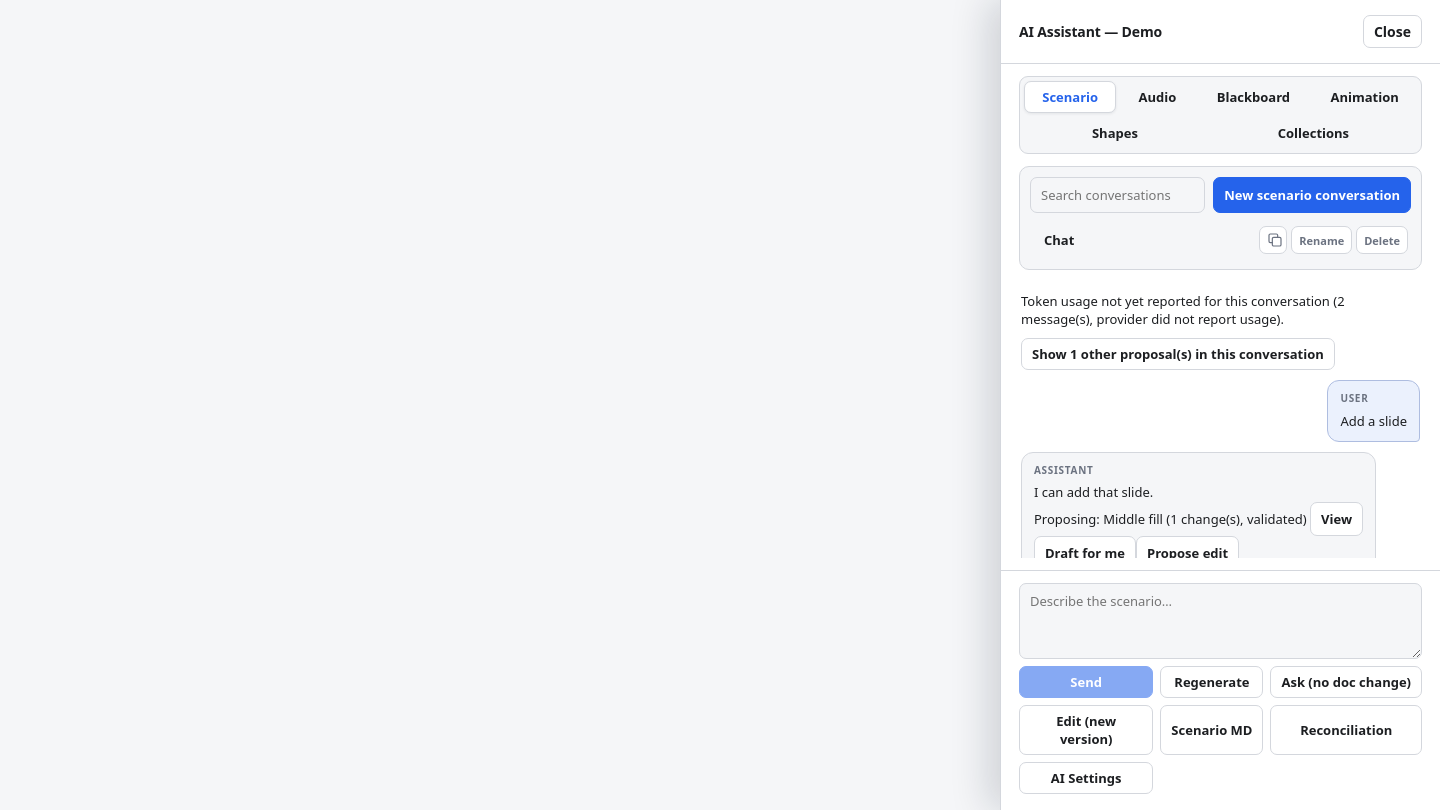
Test case: AiPanel inline proposals › lists unattached proposals collapsed and reviews them in the modal
Click the button with test id "ai-proposals-others-toggle" at (1178, 354), box x1=1021 y1=338 x2=1335 y2=370
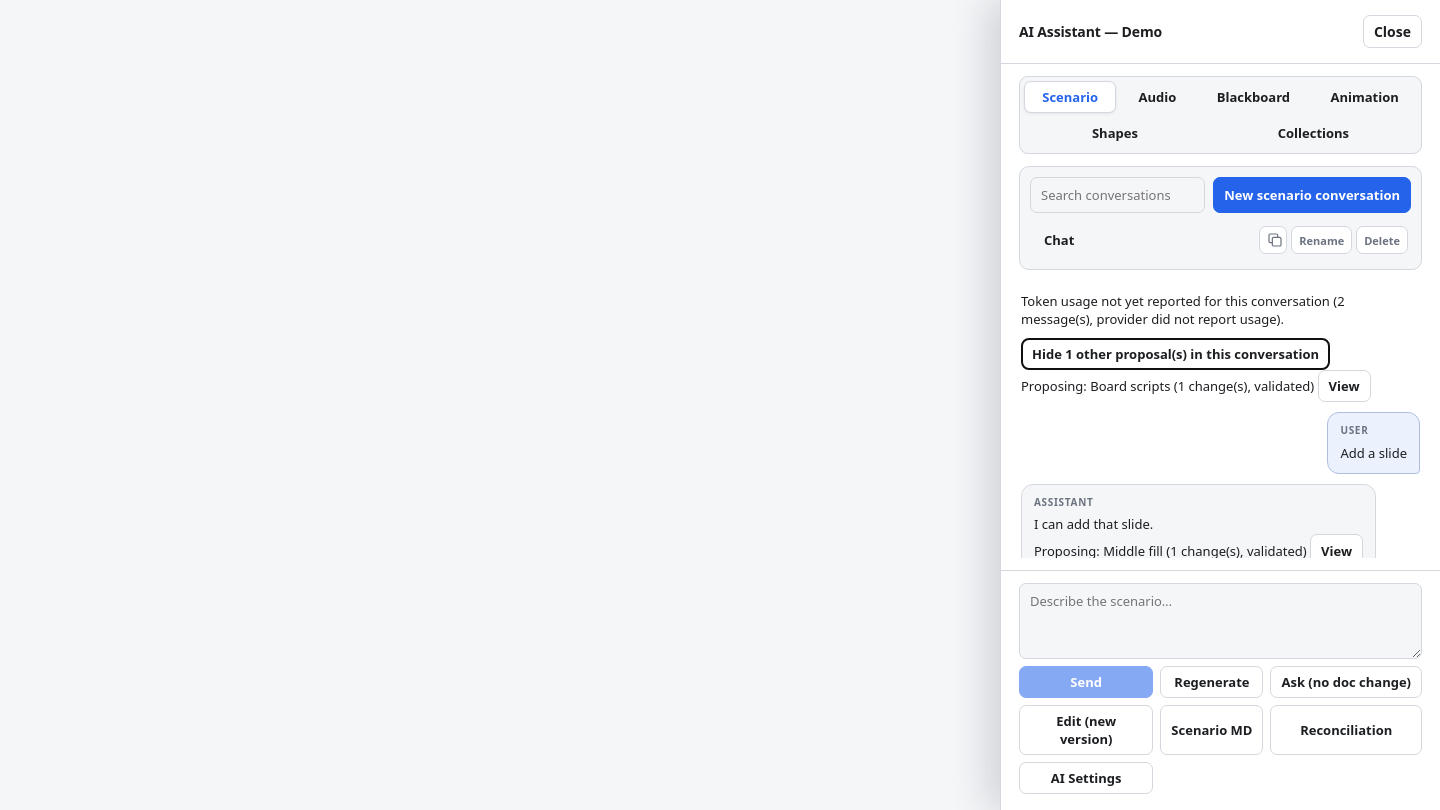
Now the element with test id "ai-proposals-others" is shown, box x1=1021 y1=370 x2=1420 y2=402
Click the button with test id "ai-other-proposal-view-prop-stage" at (1344, 386), box x1=1318 y1=370 x2=1370 y2=402
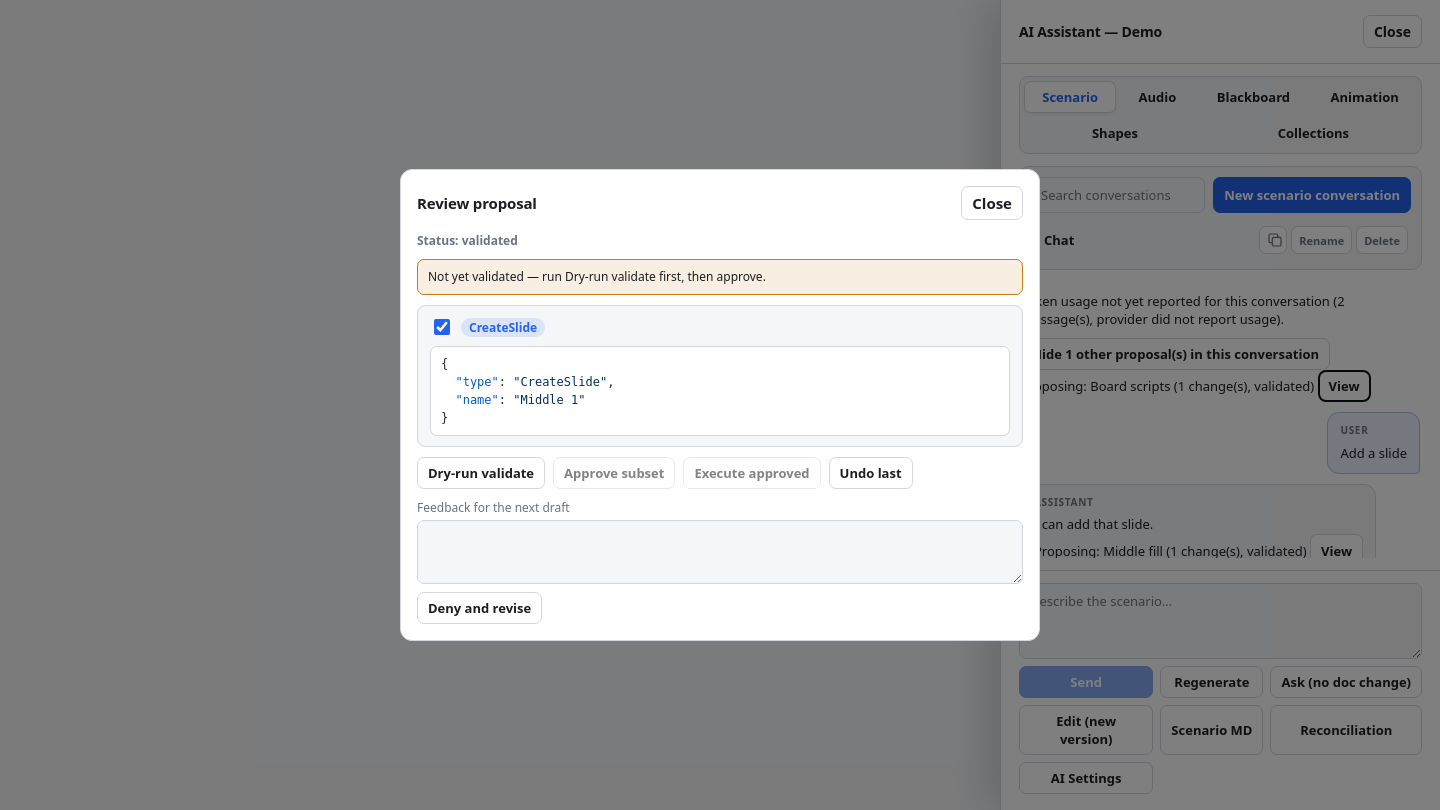
Now the element with test id "ai-proposal-prop-stage" is shown, box x1=417 y1=232 x2=1023 y2=624
